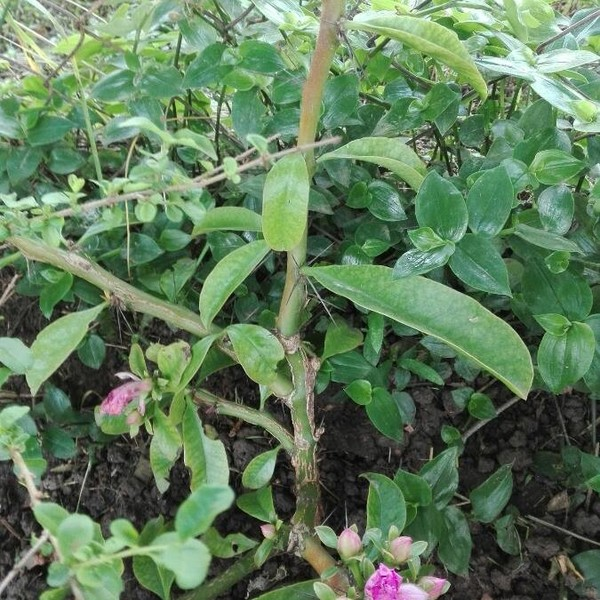obstacle: (61, 152, 360, 537), (350, 88, 546, 391)
